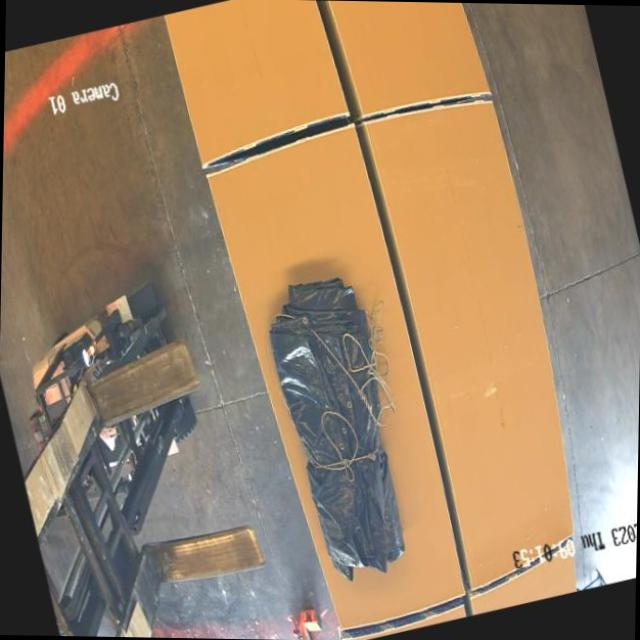forklift: (0, 270, 241, 617)
